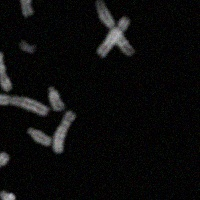chromosome: (96, 0, 136, 55), (97, 15, 130, 58), (0, 92, 48, 115), (53, 110, 78, 153), (0, 51, 12, 91), (27, 126, 52, 145), (47, 86, 65, 111), (0, 152, 10, 182), (18, 0, 33, 17), (20, 42, 36, 53), (0, 190, 16, 200)
